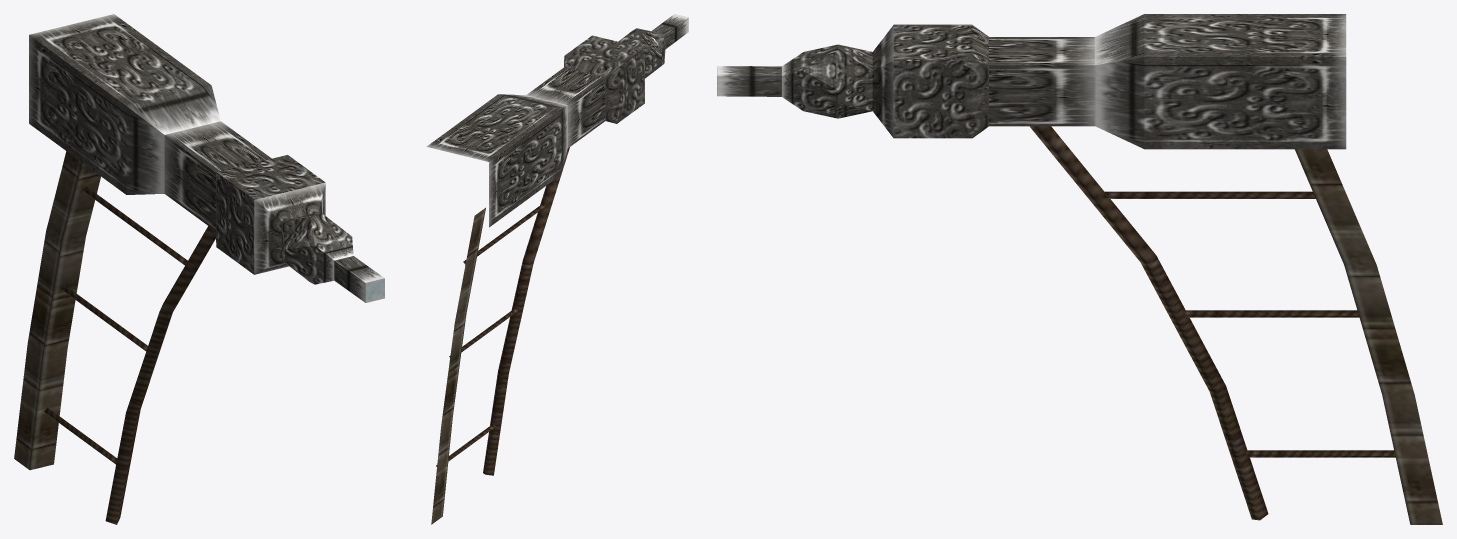
3 renders of one model, left to right at view 1: azimuth 30°, elevation 25°; view 2: azimuth 150°, elevation 25°; view 3: azimuth 270°, elevation 25°, orthographic. The views are drawn at different scales.
Visible parts, largest first — view 1: model_Object13; view 2: model_Object13; view 3: model_Object13.
Boxes of the visible parts, <box> form: model_Object13: <box>14,14,384,524</box>; model_Object13: <box>426,14,688,524</box>; model_Object13: <box>717,14,1442,524</box>.
Size of the model in its own units: 0.7092 by 3.72 by 5.06.
Materials: 3 (3 with a texture image).
